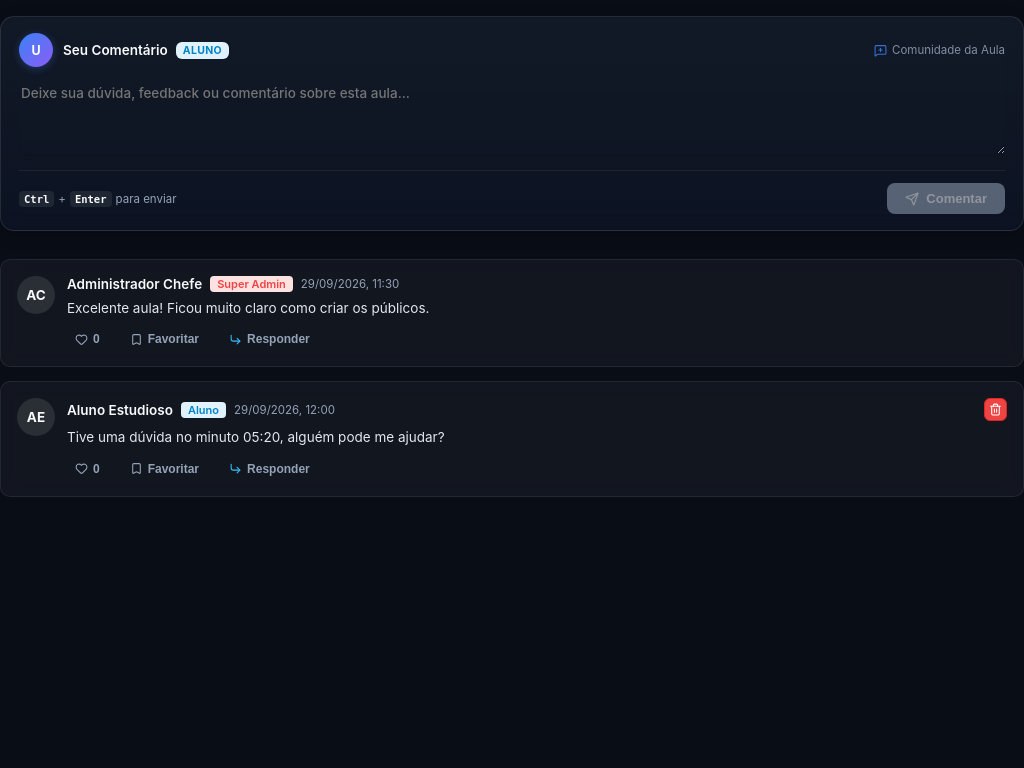
Test: LessonComments Component › allows user to delete their own comment with confirmation modal
The width and height of the screenshot is (1024, 768).
Note: Clica para excluir comentário 2
Click the button with test id "delete-comment-btn-2".
click(996, 410)  # box [984,398,1007,421]
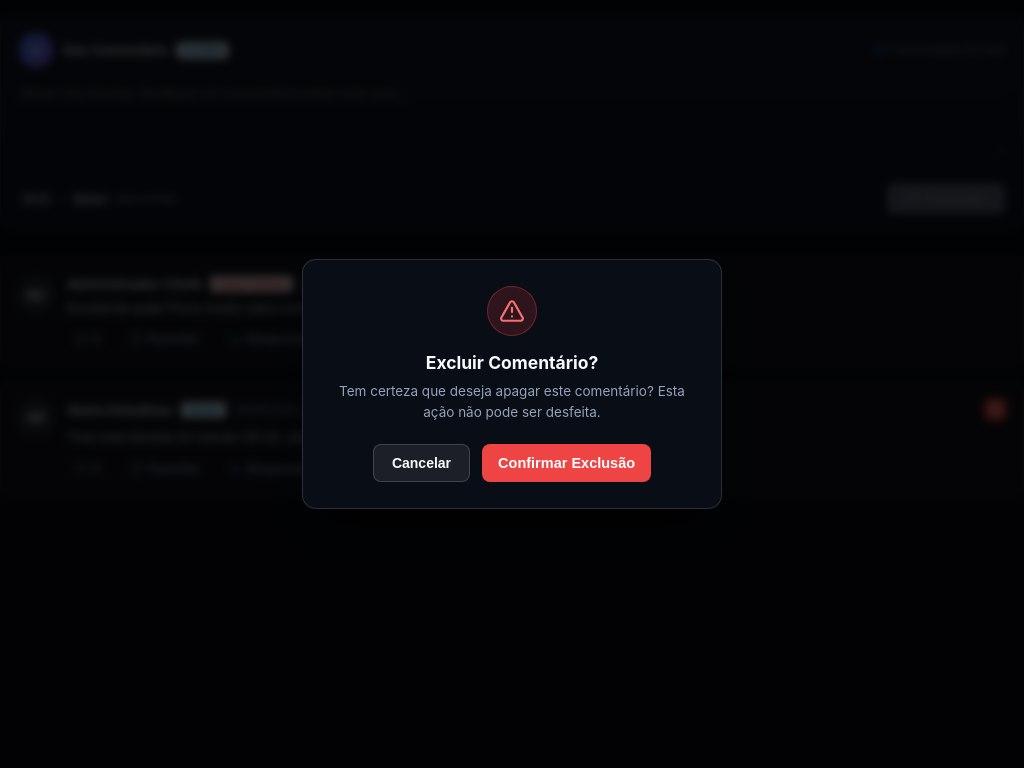
Expected: the heading "Excluir Comentário?" is shown, [426,352,598,373]
Expected: the button with test id "confirm-delete-btn" is shown
Click the button with test id "confirm-delete-btn".
click(567, 463)  # box [482,444,651,482]
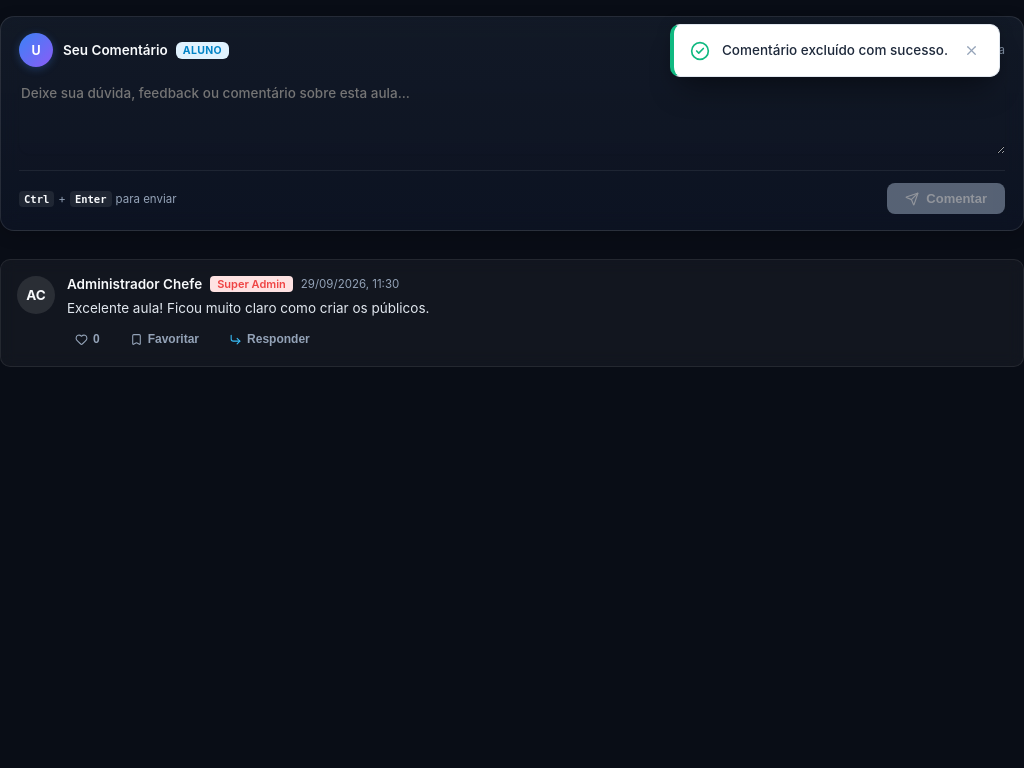
Expected: the text "Tive uma dúvida no minuto 05:20, alguém pode me ajudar?" is gone
